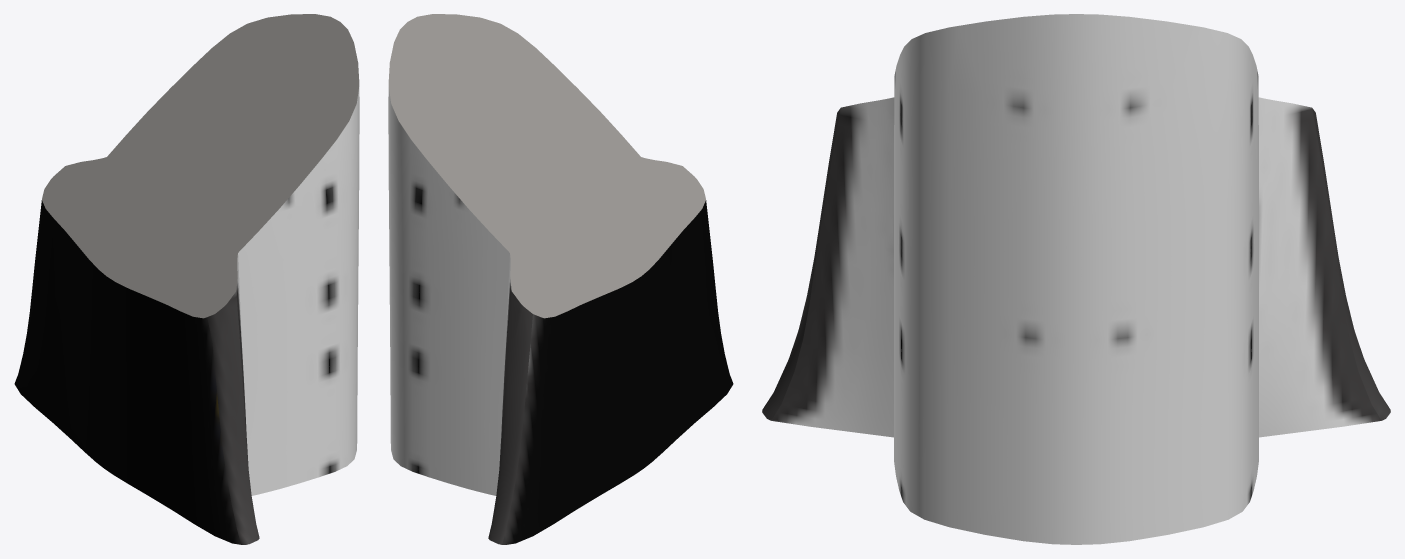
The model's file is Puzzle_3_Cell_03.glb.
The picture shows the model from 3 angles, left to right: view 1: azimuth 30°, elevation 25°; view 2: azimuth 150°, elevation 25°; view 3: azimuth 270°, elevation 25°; orthographic projection. The views are drawn at different scales.
Parts seen in each view (by area): view 1: Puzzle_3_Cell_03; view 2: Puzzle_3_Cell_03; view 3: Puzzle_3_Cell_03.
Boxes of the visible parts, box(x1,y1,x2,y2) form: Puzzle_3_Cell_03: box(14, 14, 359, 544); Puzzle_3_Cell_03: box(388, 14, 733, 544); Puzzle_3_Cell_03: box(762, 14, 1390, 544).
Bounding box in the file's own units: 12.92 × 20.34 × 21.62.
Materials: 2 (2 with a texture image).
